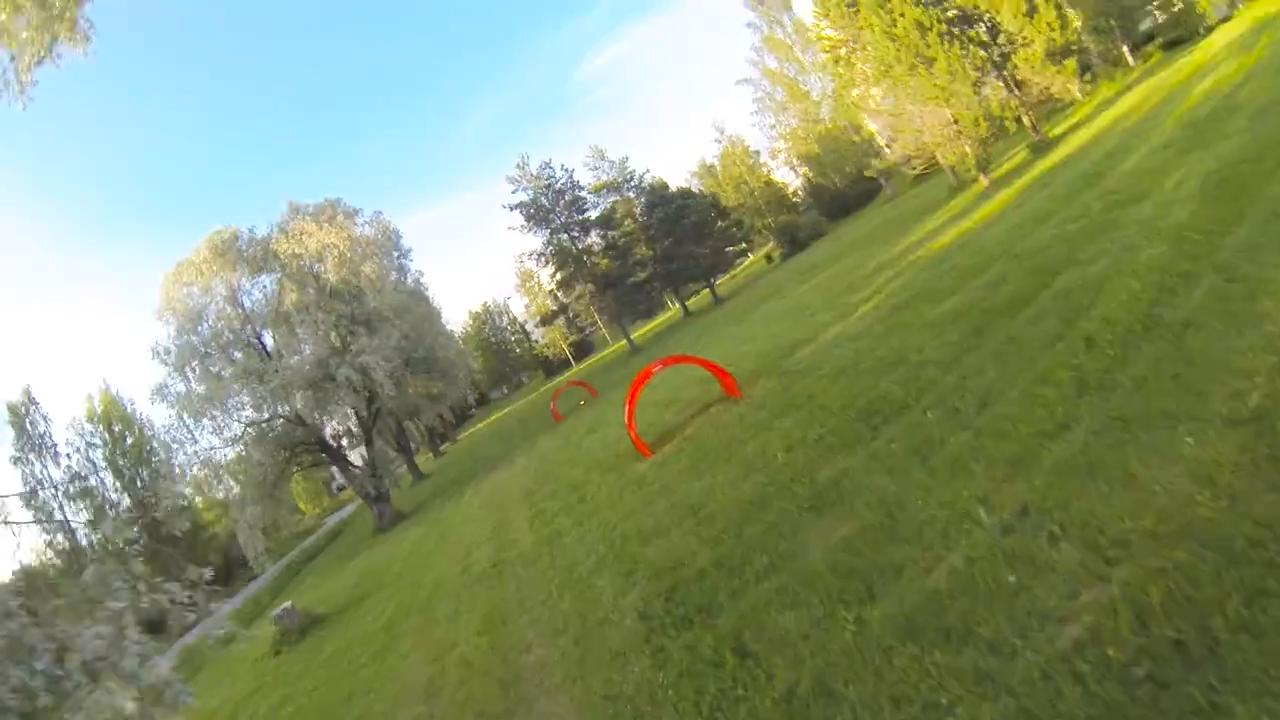gate: (622, 349, 742, 459)
